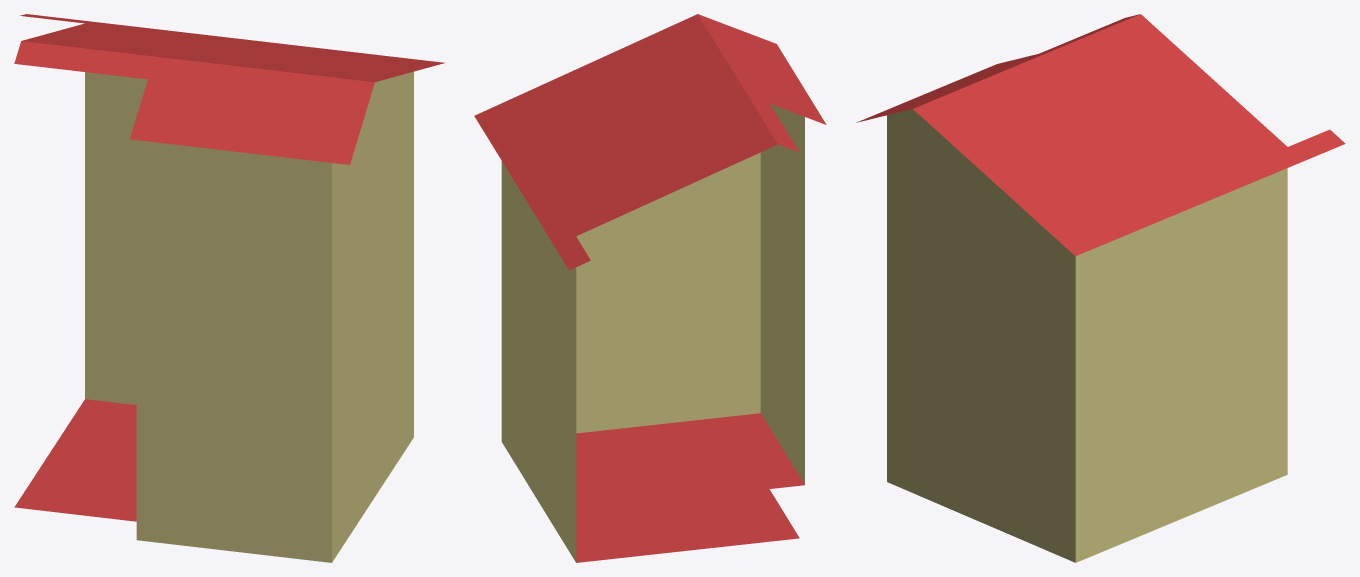
3 views of the same model, side by side, from view 1: azimuth 30°, elevation 25°; view 2: azimuth 150°, elevation 25°; view 3: azimuth 270°, elevation 25° (orthographic). The views are drawn at different scales.
Bounding box in the file's own units: 8.99 × 10.87 × 9.72.
